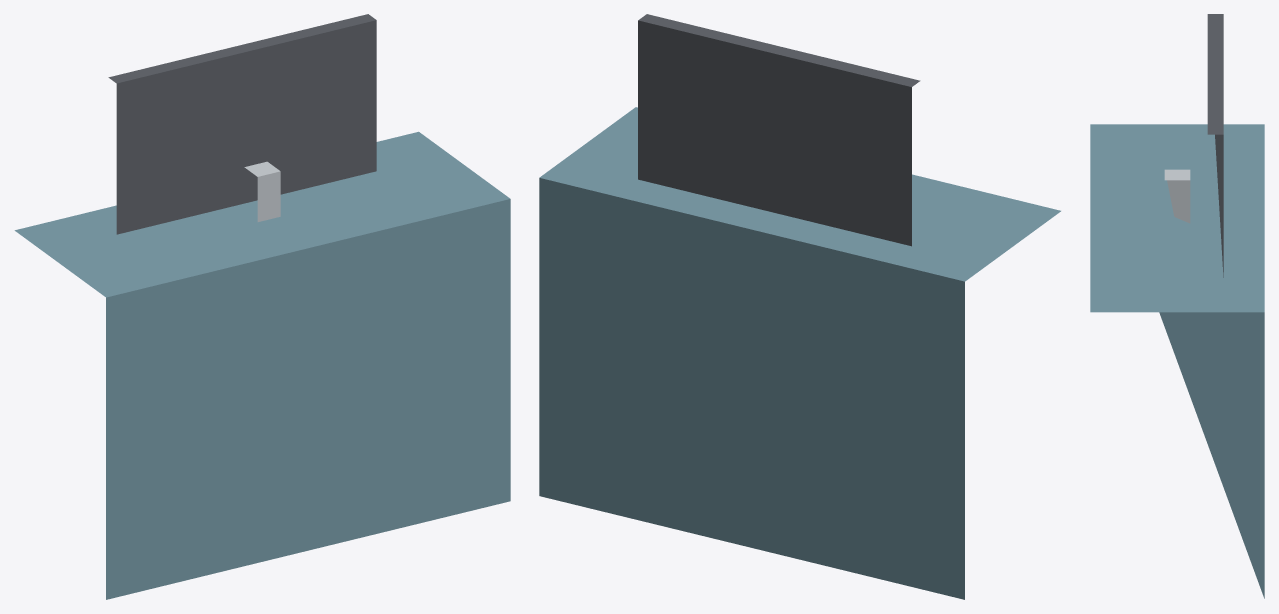
Rendered from demo-counter.glb.
The picture shows the model from 3 angles, left to right: view 1: azimuth 30°, elevation 25°; view 2: azimuth 150°, elevation 25°; view 3: azimuth 270°, elevation 25°; orthographic projection. The views are drawn at different scales.
Size of the model in its own units: 1.4 by 1.5 by 0.55.
